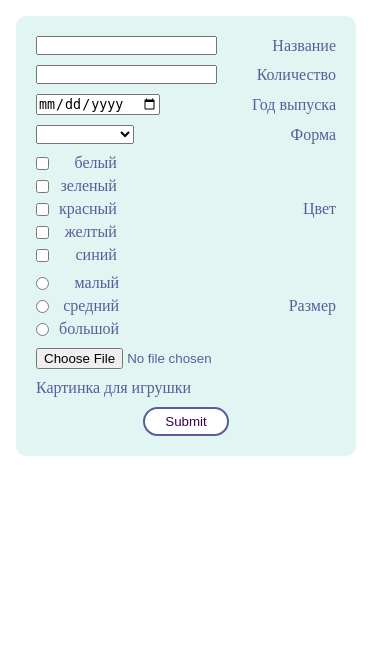
Test: Forms page › Render errors in form
Click the button "Submit".
click(186, 422)  # box 143,407 -> 229,436
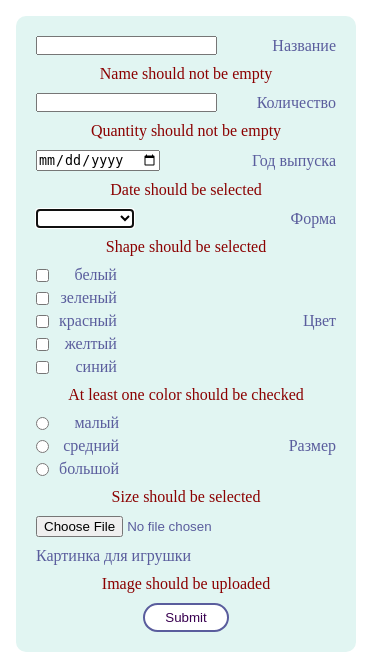
Now the text "Name should not be empty" is shown, box 100,65 -> 272,83
